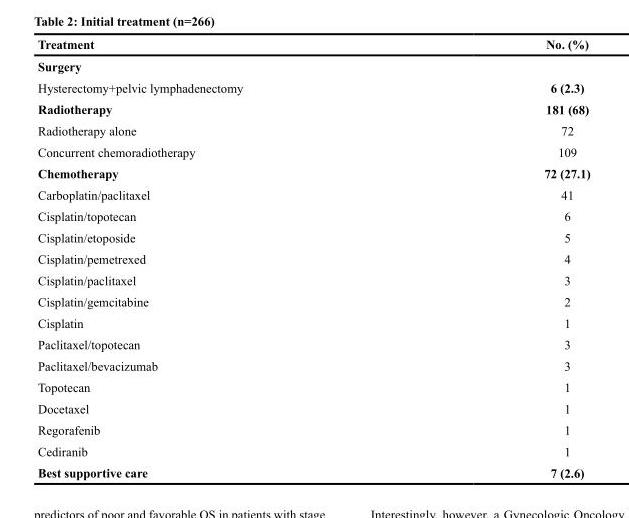table: (37, 36, 589, 479)
table column: (37, 36, 392, 479), (392, 36, 589, 479)
table column header: (37, 36, 589, 54)
table projected row header: (37, 54, 589, 76)
table row: (37, 54, 589, 76), (37, 76, 589, 98), (37, 140, 589, 162), (37, 183, 589, 205), (37, 247, 589, 269), (37, 290, 589, 312), (37, 354, 589, 376), (37, 418, 589, 440), (37, 98, 589, 119), (37, 119, 589, 140), (37, 162, 589, 183), (37, 205, 589, 226), (37, 226, 589, 247), (37, 269, 589, 290), (37, 312, 589, 333), (37, 333, 589, 354), (37, 376, 589, 397), (37, 397, 589, 418), (37, 440, 589, 461), (37, 36, 589, 54), (37, 461, 589, 479)
